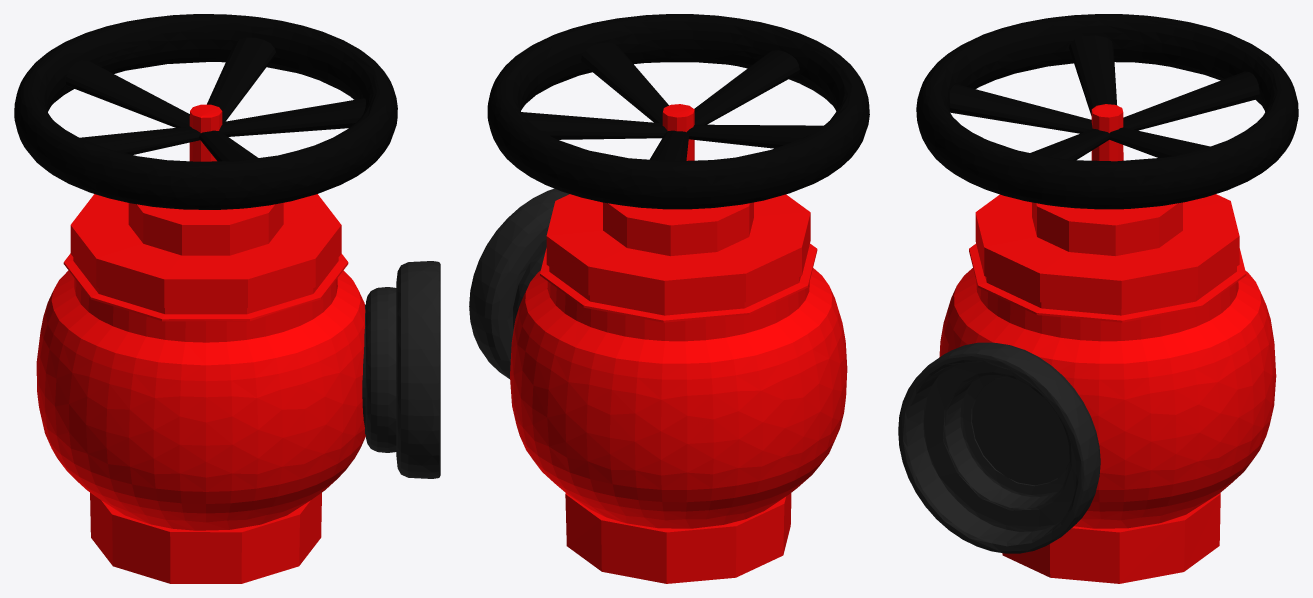
File: waterTurn.fbx
3 views of the same model, side by side, from view 1: azimuth 30°, elevation 25°; view 2: azimuth 150°, elevation 25°; view 3: azimuth 270°, elevation 25° (orthographic).
Parts seen in each view (by area): view 1: body1, wheel1, mouse1; view 2: body1, wheel1, mouse1; view 3: body1, wheel1, mouse1.
Boxes of the visible parts, x1,y1,x2,y2 form: body1: [36, 104, 365, 583]; wheel1: [14, 14, 397, 209]; mouse1: [362, 261, 440, 478]; body1: [510, 104, 847, 583]; wheel1: [487, 14, 869, 209]; mouse1: [469, 188, 569, 378]; body1: [939, 104, 1276, 583]; wheel1: [916, 14, 1298, 209]; mouse1: [898, 342, 1100, 553].
Bounding box in the file's own units: 7.81 × 8.64 × 7.01.
